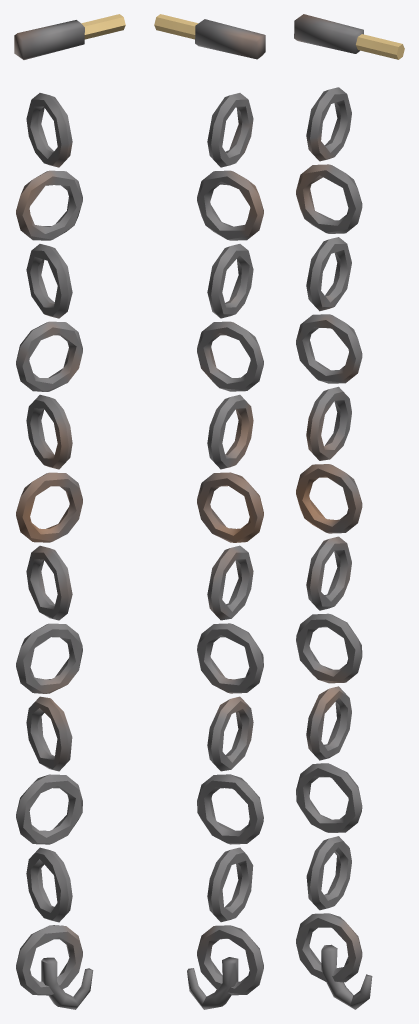
Rendered from chain.gltf.
3 renders of one model, left to right at view 1: azimuth 30°, elevation 25°; view 2: azimuth 150°, elevation 25°; view 3: azimuth 330°, elevation 25°, orthographic.
Parts seen in each view (by area): view 1: chain; view 2: chain; view 3: chain.
Part boxes in pixels (x1,y1,x2,y2): chain: (14, 14, 125, 1009); chain: (154, 14, 265, 1009); chain: (294, 14, 404, 1009).
Bounding box in the file's own units: 0.293 × 2.62 × 0.186.
Materials: 1 (1 with a texture image).
